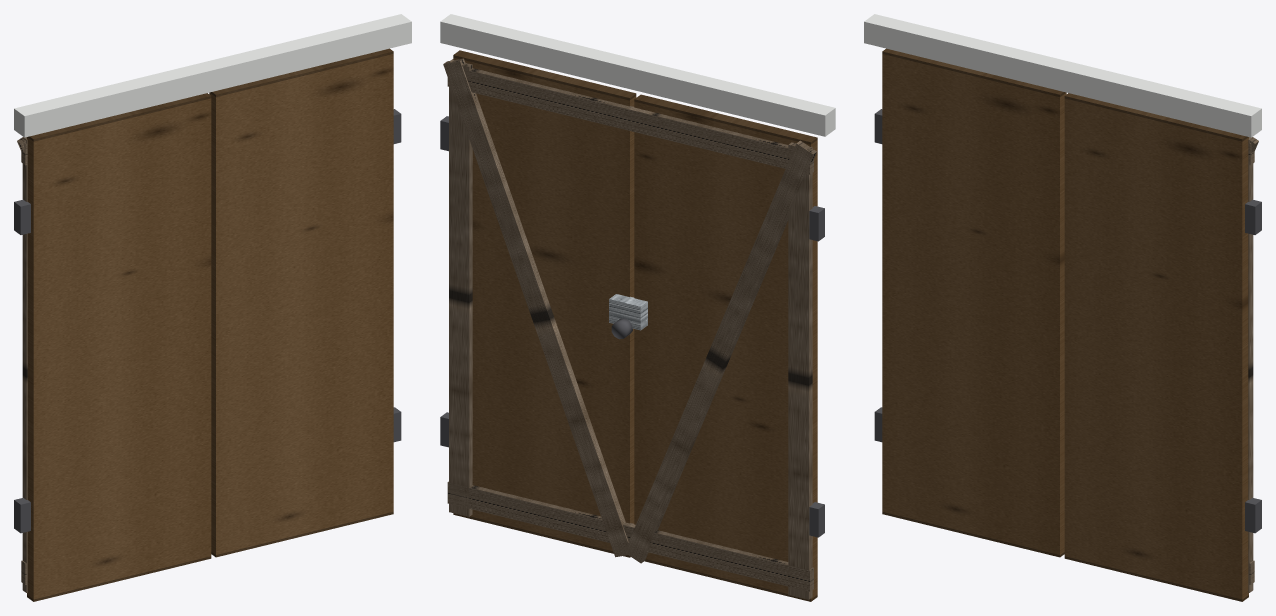
File: WK_DOOR_ShedDouble.glb
3 views of the same model, side by side, from view 1: azimuth 30°, elevation 25°; view 2: azimuth 150°, elevation 25°; view 3: azimuth 330°, elevation 25° (orthographic).
Parts seen in each view (by area): view 1: WK_DOOR_ShedDouble_P01, WK_DOOR_ShedDouble_P08, WK_DOOR_ShedDouble_P17, WK_DOOR_ShedDouble_P04, WK_DOOR_ShedDouble_P07, WK_DOOR_ShedDouble_P06; view 2: WK_DOOR_ShedDouble_P01, WK_DOOR_ShedDouble_P08, WK_DOOR_ShedDouble_P17, WK_DOOR_ShedDouble_P12, WK_DOOR_ShedDouble_P05, WK_DOOR_ShedDouble_P04, WK_DOOR_ShedDouble_P11, WK_DOOR_ShedDouble_P02, WK_DOOR_ShedDouble_P03, WK_DOOR_ShedDouble_P09, WK_DOOR_ShedDouble_P10, WK_DOOR_ShedDouble_P15 (+2 smaller); view 3: WK_DOOR_ShedDouble_P08, WK_DOOR_ShedDouble_P01, WK_DOOR_ShedDouble_P17, WK_DOOR_ShedDouble_P11, WK_DOOR_ShedDouble_P14, WK_DOOR_ShedDouble_P13.
Part boxes in pixels (x1,y1,x2,y2): WK_DOOR_ShedDouble_P01: (27, 93, 211, 601); WK_DOOR_ShedDouble_P08: (209, 48, 393, 557); WK_DOOR_ShedDouble_P17: (14, 14, 411, 137); WK_DOOR_ShedDouble_P04: (22, 137, 27, 592); WK_DOOR_ShedDouble_P07: (14, 199, 30, 234); WK_DOOR_ShedDouble_P06: (14, 498, 30, 533); WK_DOOR_ShedDouble_P01: (634, 94, 817, 601); WK_DOOR_ShedDouble_P08: (453, 50, 636, 557); WK_DOOR_ShedDouble_P17: (440, 14, 835, 136); WK_DOOR_ShedDouble_P12: (443, 58, 631, 557); WK_DOOR_ShedDouble_P05: (624, 140, 816, 563); WK_DOOR_ShedDouble_P04: (788, 142, 812, 599); WK_DOOR_ShedDouble_P11: (449, 59, 472, 516); WK_DOOR_ShedDouble_P02: (629, 106, 813, 174); WK_DOOR_ShedDouble_P03: (629, 523, 813, 591); WK_DOOR_ShedDouble_P09: (447, 68, 632, 130); WK_DOOR_ShedDouble_P10: (447, 481, 632, 542); WK_DOOR_ShedDouble_P15: (609, 294, 647, 330); WK_DOOR_ShedDouble_P08: (1064, 93, 1248, 601); WK_DOOR_ShedDouble_P01: (882, 48, 1066, 557); WK_DOOR_ShedDouble_P17: (864, 14, 1261, 137); WK_DOOR_ShedDouble_P11: (1248, 137, 1253, 592); WK_DOOR_ShedDouble_P14: (1245, 199, 1261, 234); WK_DOOR_ShedDouble_P13: (1245, 498, 1261, 533).
Size of the model in its own units: 1.7 by 2.06 by 0.185.
Materials: 5 (3 with a texture image).
